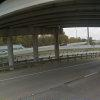Bridge: (2, 0, 91, 42)
